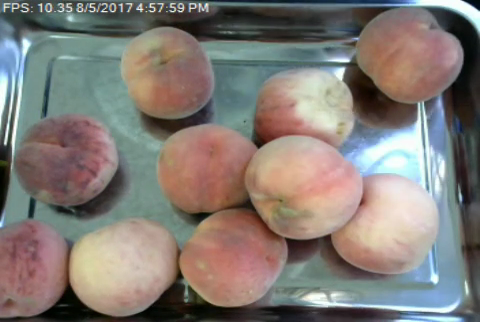Peach: (246, 135, 360, 240), (353, 7, 464, 103), (331, 174, 437, 274), (180, 209, 287, 307), (69, 219, 177, 315), (14, 113, 117, 205), (254, 67, 357, 156), (153, 122, 251, 215), (120, 27, 215, 121), (0, 220, 69, 317)
